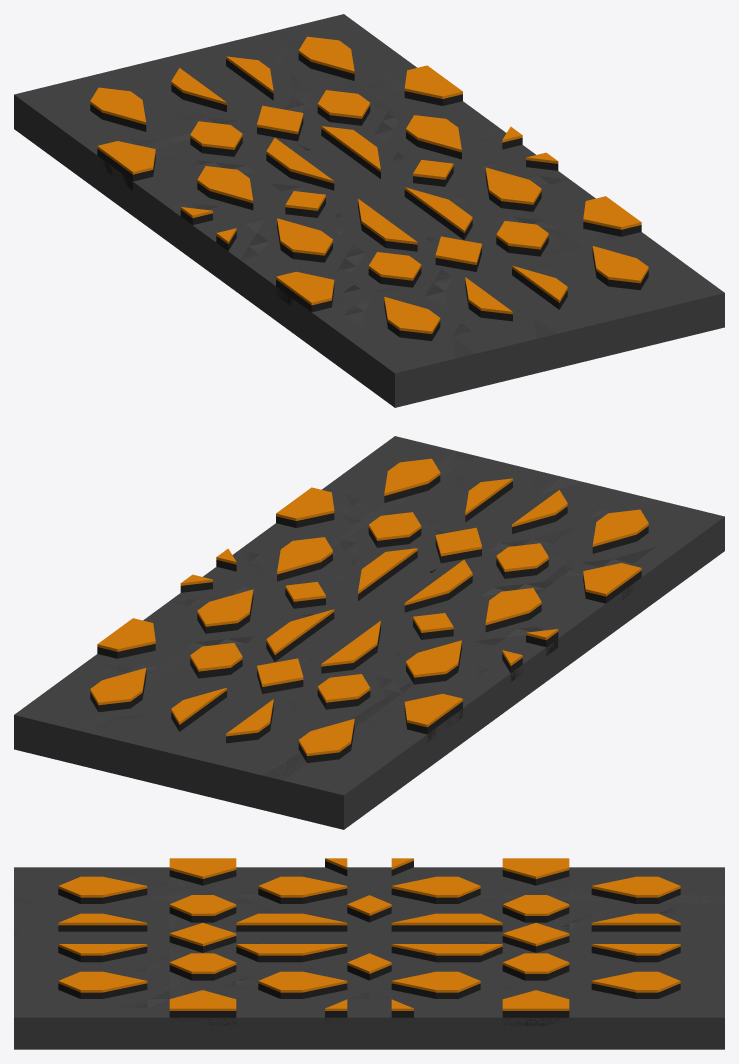
File: map2.1.fbx
3 views of the same model, one above another, from view 1: azimuth 30°, elevation 25°; view 2: azimuth 150°, elevation 25°; view 3: azimuth 270°, elevation 25° (orthographic). The views are drawn at different scales.
Visible parts, largest first — view 1: Cube; view 2: Cube; view 3: Cube.
Part boxes in pixels (box(x1,y1,x2,y2)): Cube: box(14, 14, 724, 407); Cube: box(14, 436, 724, 829); Cube: box(14, 858, 724, 1049).
Size of the model in its own units: 2000 by 256 by 4000.
